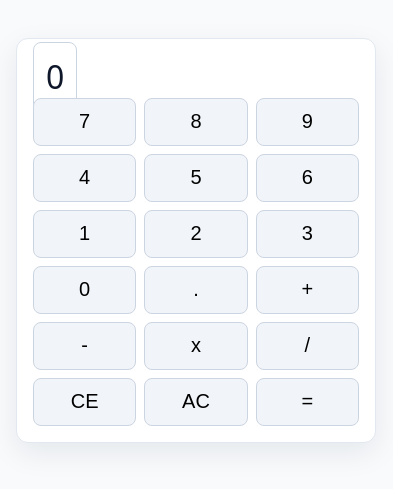
Test: App number entry behavior › recovers from error state with AC
This screenshot has width=393, height=489.
Click the button "5": {"x": 196, "y": 178} [144, 154, 248, 202]
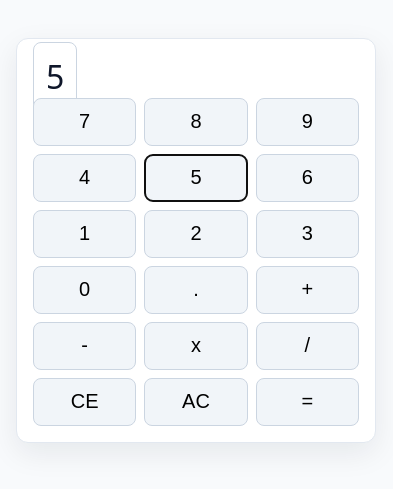
Click the button "/": {"x": 307, "y": 346} [256, 322, 359, 370]
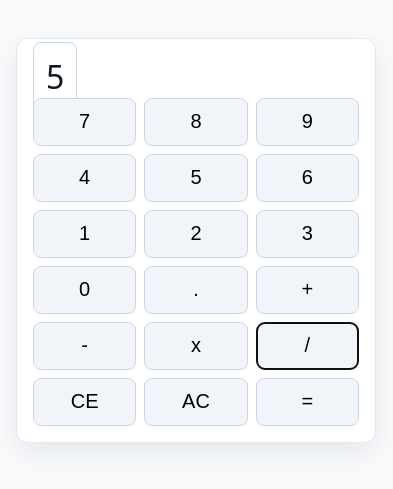
Click the button "0": {"x": 85, "y": 290} [33, 266, 136, 314]
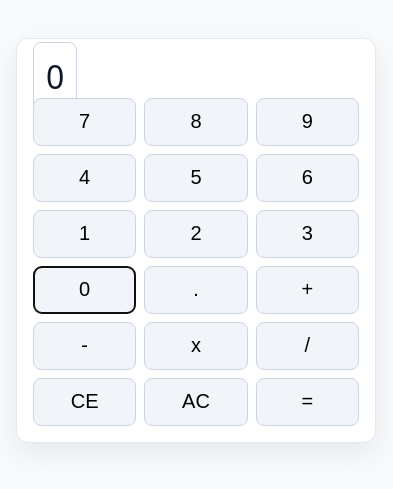
Click the button "=": {"x": 307, "y": 402} [256, 378, 359, 426]
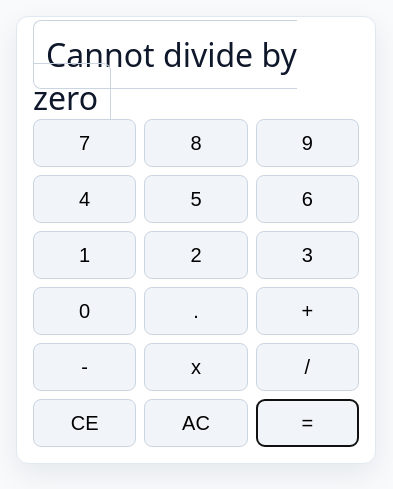
Click the button "AC": {"x": 196, "y": 423} [144, 399, 248, 447]
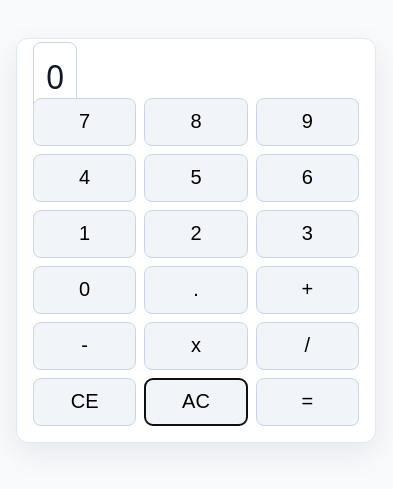
Expected: the text named "Display" reads "0", [46, 54, 64, 98]
